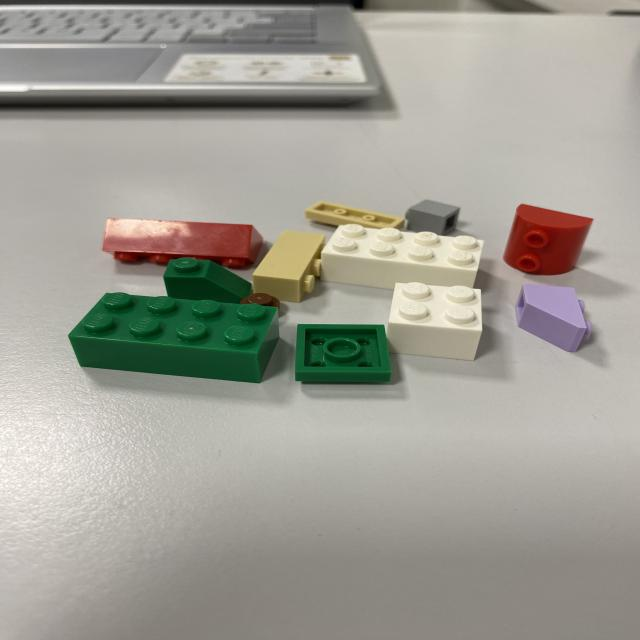C4x2x1: (65, 292, 280, 379), (324, 224, 487, 271), (321, 251, 480, 290)
